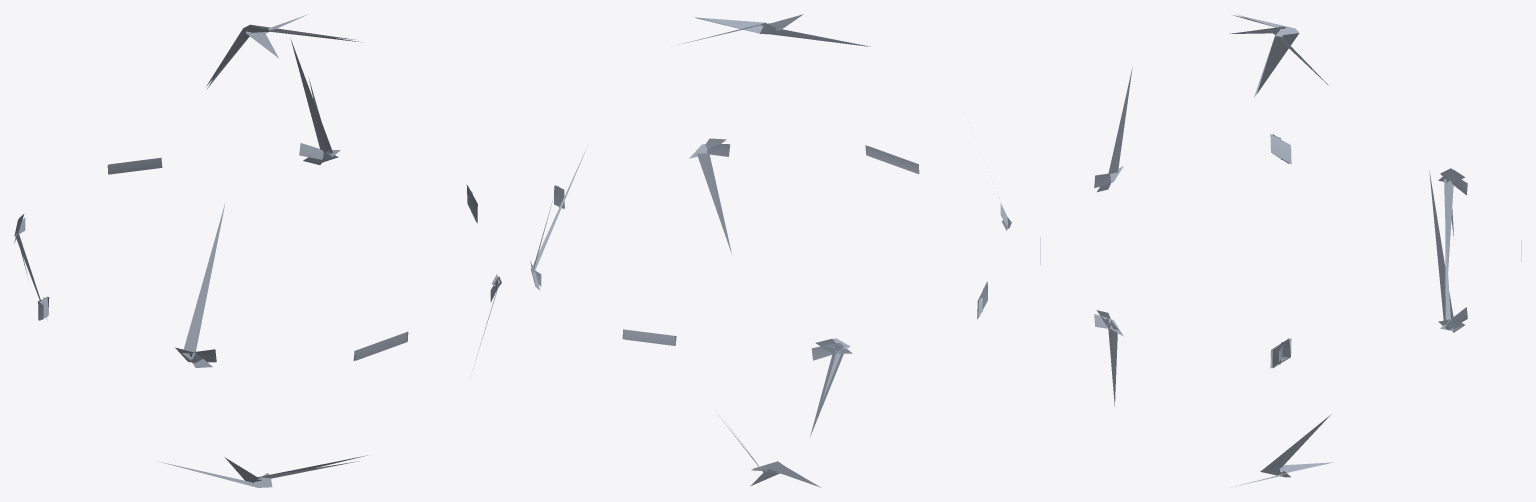
The model's file is stage5.glb.
3 views of the same model, side by side, from view 1: azimuth 30°, elevation 25°; view 2: azimuth 150°, elevation 25°; view 3: azimuth 270°, elevation 25° (orthographic). The views are drawn at different scales.
Parts seen in each view (by area): view 1: dsf-5-structural; view 2: dsf-5-structural; view 3: dsf-5-structural.
Boxes of the visible parts, x1,y1,x2,y2 form: dsf-5-structural: (14, 15, 501, 487); dsf-5-structural: (530, 14, 1011, 487); dsf-5-structural: (1040, 14, 1521, 487).
Size of the model in its own units: 2 by 2 by 1.99.
